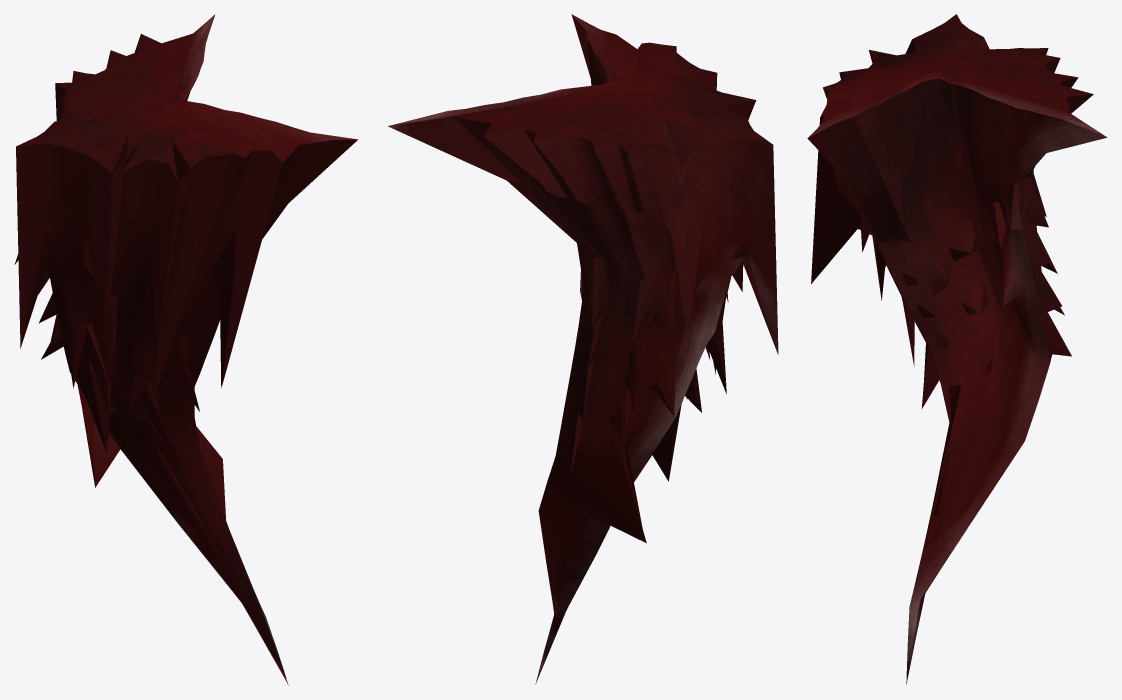
The model's file is Hangende Steen.fbx.
3 views of the same model, side by side, from view 1: azimuth 30°, elevation 25°; view 2: azimuth 150°, elevation 25°; view 3: azimuth 270°, elevation 25° (orthographic). The views are drawn at different scales.
Visible parts, largest first — view 1: StaleTiet; view 2: StaleTiet; view 3: StaleTiet.
Part boxes in pixels (box(x1,y1,x2,y2)): StaleTiet: box(14, 14, 358, 685); StaleTiet: box(388, 14, 778, 684); StaleTiet: box(807, 14, 1107, 684).
Bounding box in the file's own units: 3878 × 7936 × 3779.
